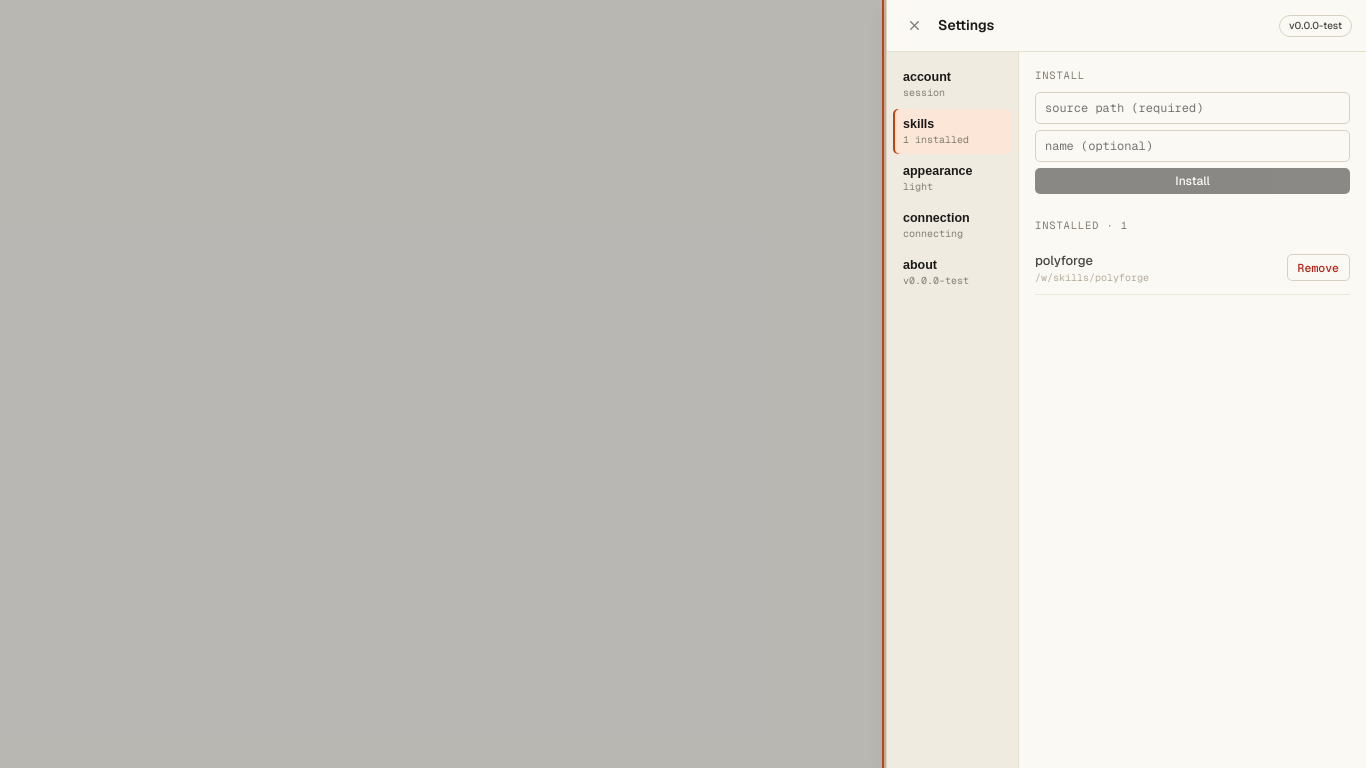
Test case: Settings skills panel shows what the daemon said (tether#161) › shows why a removal was refused
expect the text "polyforge" is shown: met, box [1035,252,1093,268]
Step 1. Click the button "Remove" → (1318,268), box [1287,254,1350,281]
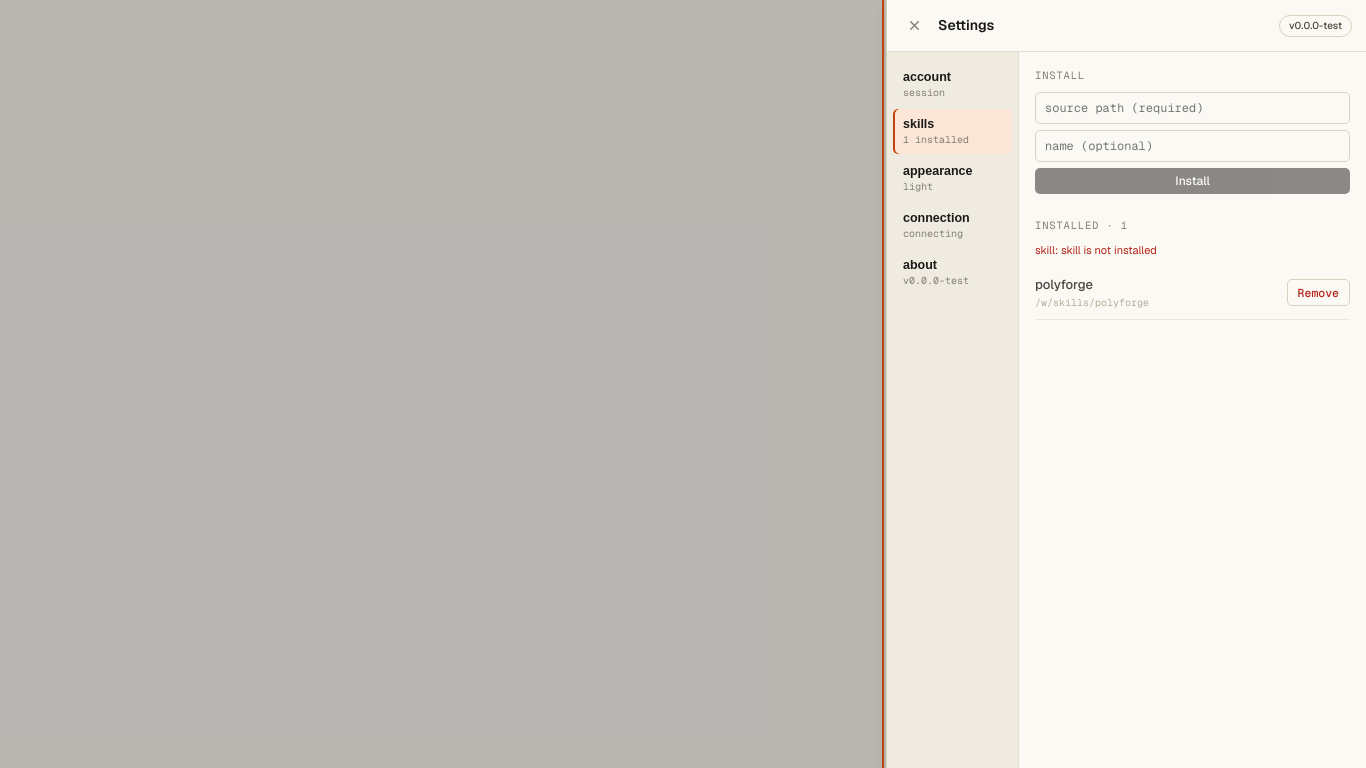
expect the text "skill: skill is not installed" is shown: met, box [1035,242,1157,256]
